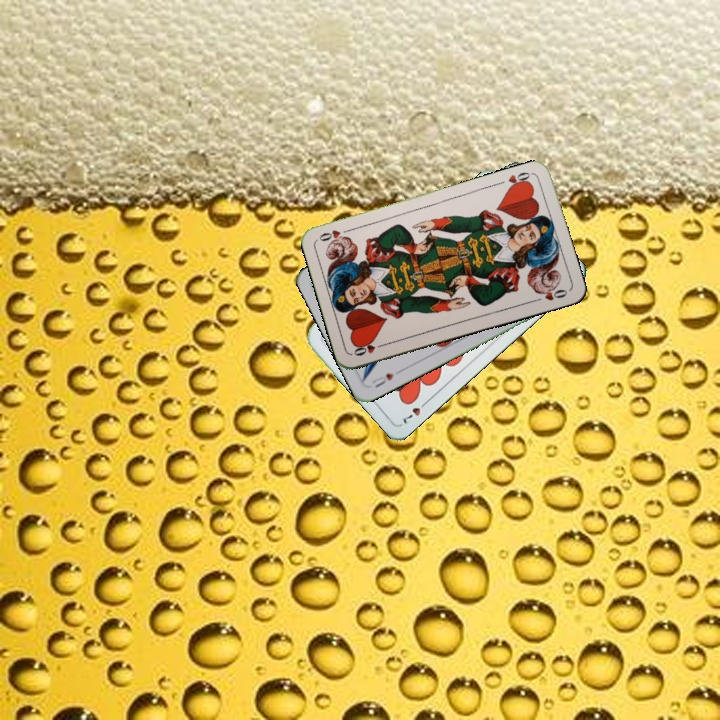H7: (399, 396, 431, 427)
HO: (349, 338, 389, 358), (504, 168, 535, 192)
HU: (368, 369, 397, 390)
